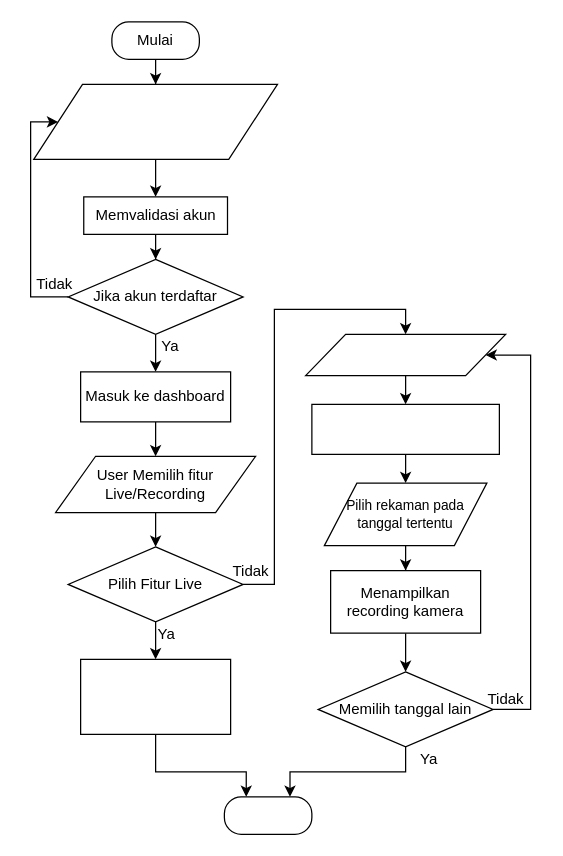
The diagram is 563 pixels wide and 856 high, and some of its shapes have lost their labels. The shapes that lost their labels are listed below. From the top down, each one's centre as x and y in pixels, then its label:
the point at 155,121: User memasukkan username & password
the point at 405,354: User Memilih tanggal
the point at 405,428: Memfilter berdasarkan tanggal
the point at 155,696: Menampilkan streaming kamera
the point at 267,815: Selesai
